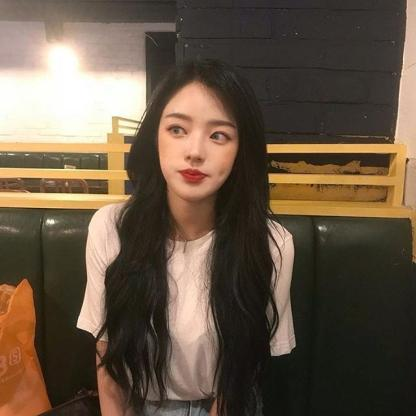person: (138, 60, 260, 214)
